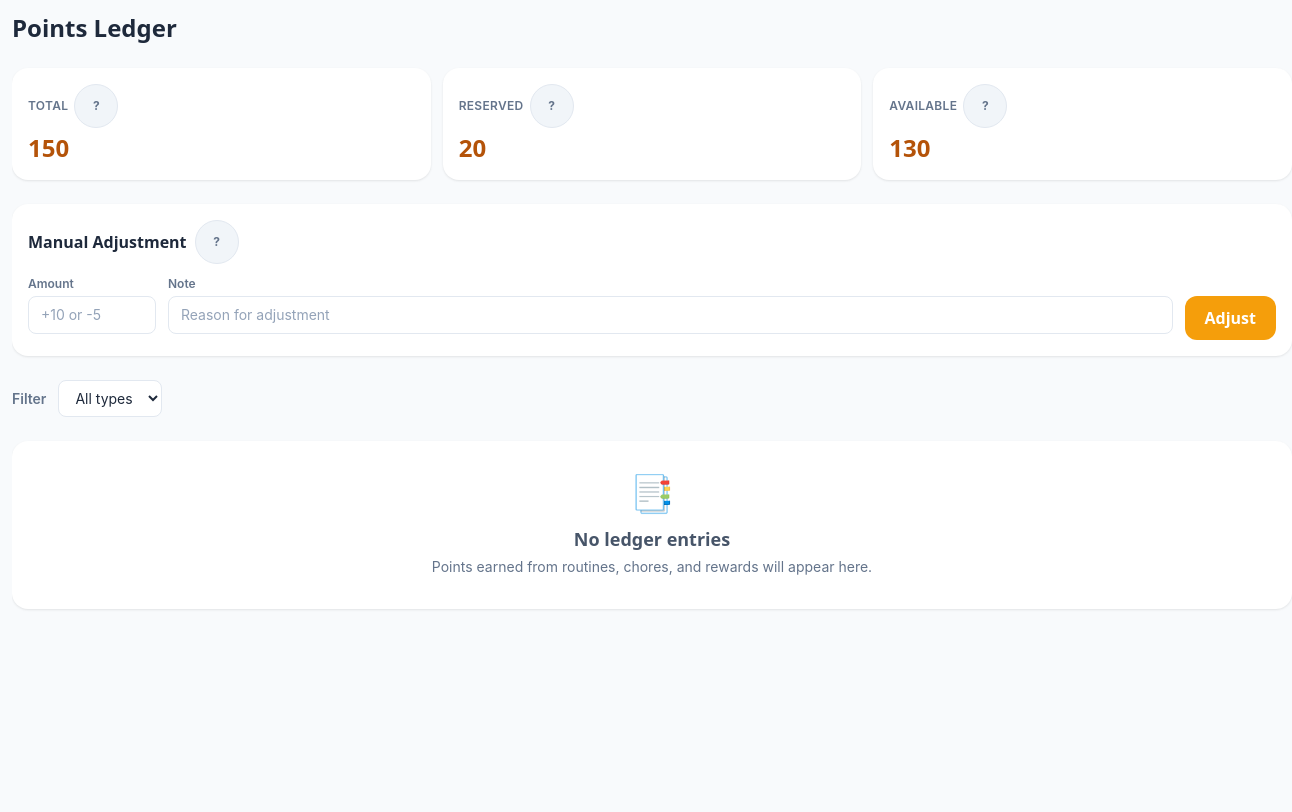
Test: LedgerScreen › shows validation error when amount is 0
Check: the text "150" is shown, box [28,131,69,164]
Type "0" into the number field labelled "Amount" at point(92, 315), box [28,296,156,334]
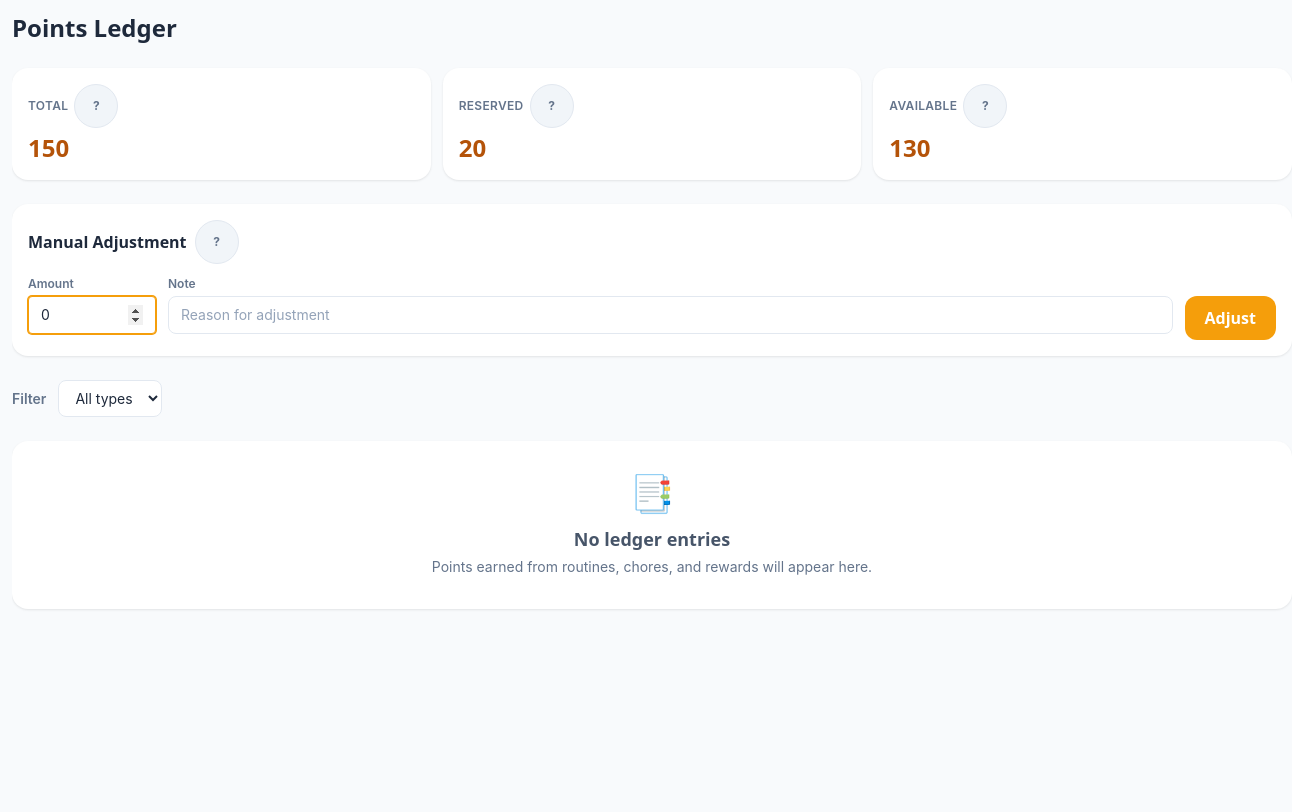
Type "some note" into the field labelled "Note" at point(670, 315), box [168,296,1172,334]
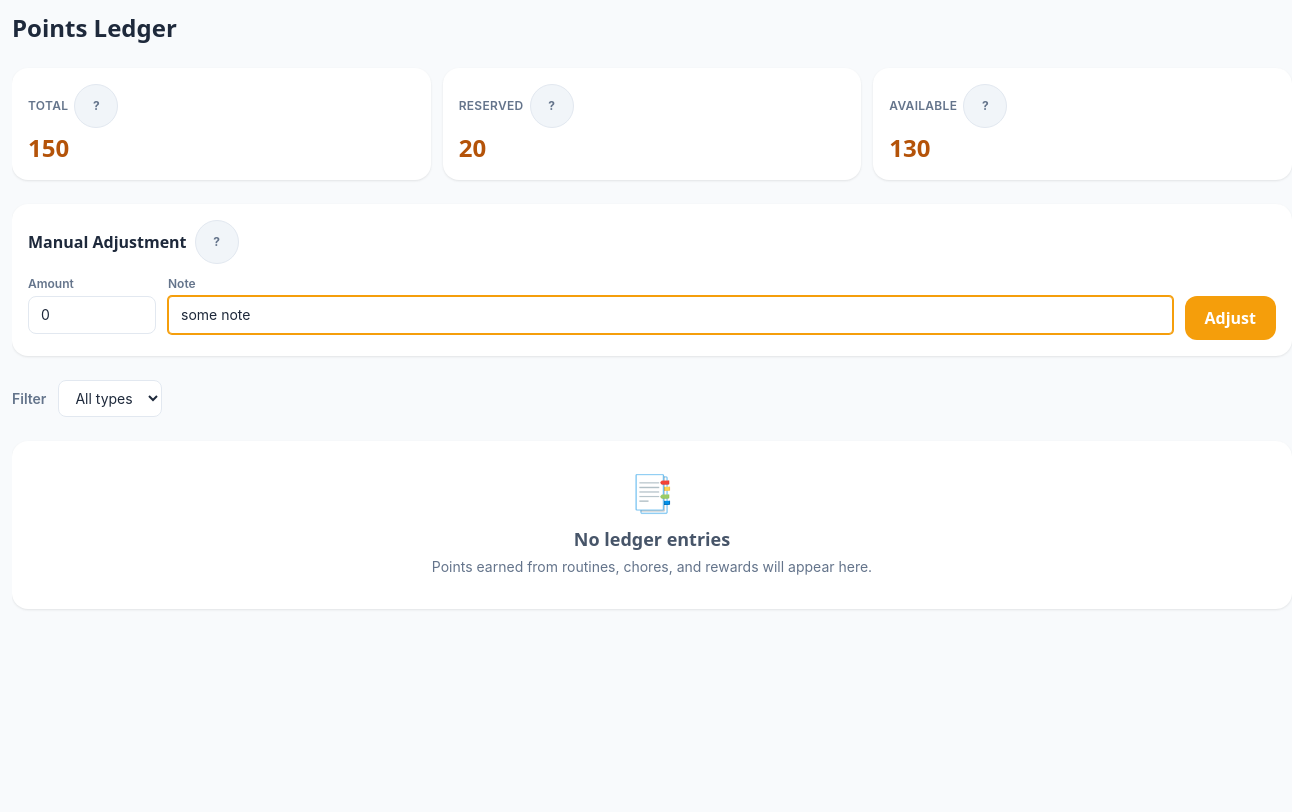
Click the button "Adjust" at point(1230, 318), box [1184,296,1276,340]
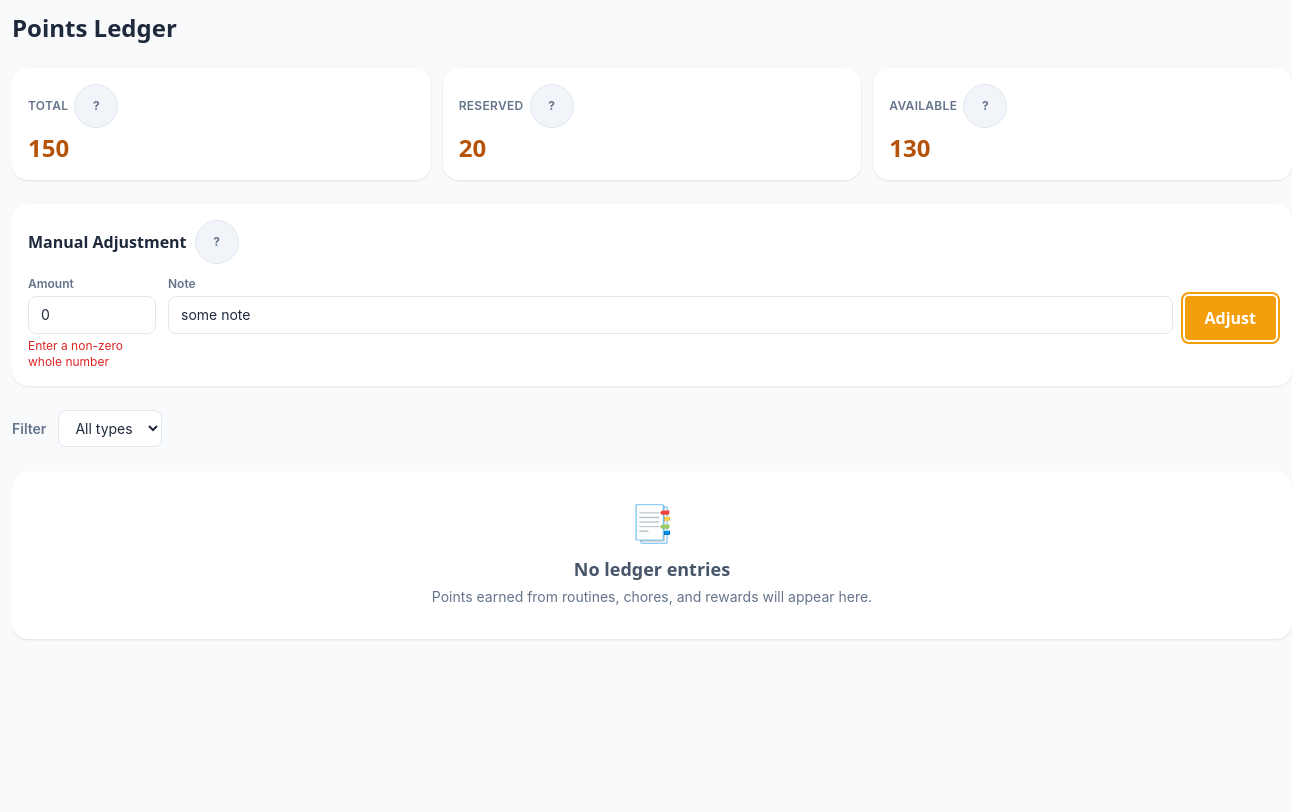
Check: the text "Enter a non-zero whole number" is shown, box [28,338,123,369]
